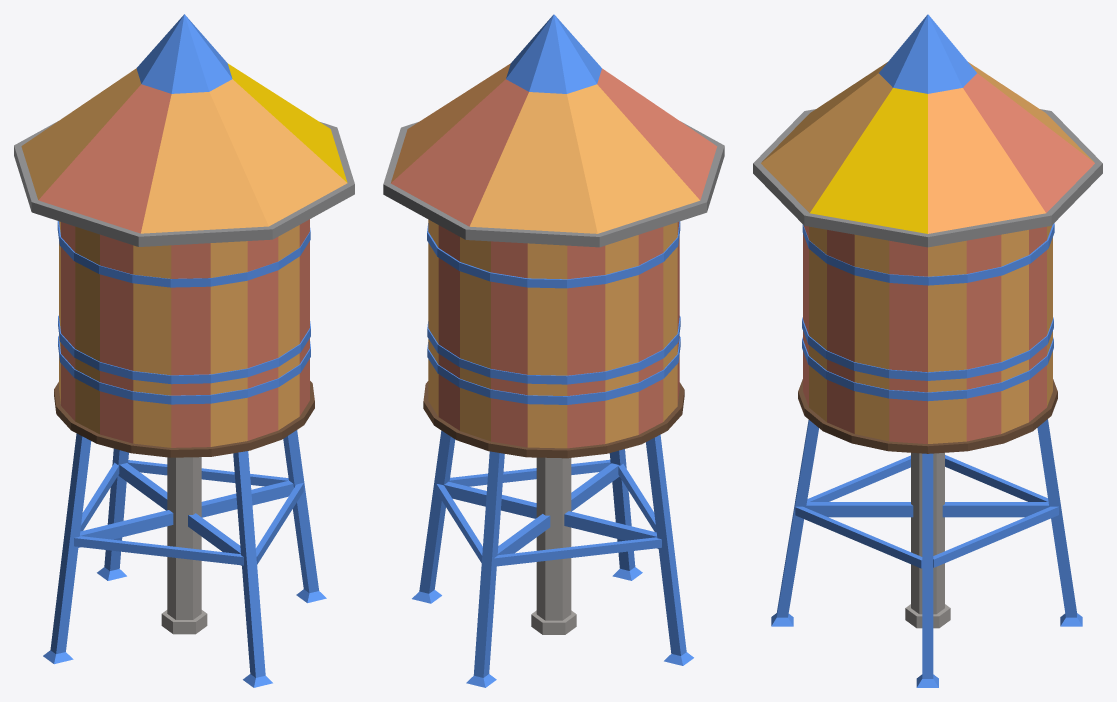
File: daxingjianzhu_shuita.fbx
The picture shows the model from 3 angles, left to right: view 1: azimuth 30°, elevation 25°; view 2: azimuth 150°, elevation 25°; view 3: azimuth 270°, elevation 25°; orthographic projection.
Parts seen in each view (by area): view 1: daxingjianzhu_shuita; view 2: daxingjianzhu_shuita; view 3: daxingjianzhu_shuita.
Part boxes in pixels (<box>): daxingjianzhu_shuita: <box>14,14,354,687</box>; daxingjianzhu_shuita: <box>383,14,724,687</box>; daxingjianzhu_shuita: <box>753,14,1102,687</box>.
Bounding box in the file's own units: 1261 × 2418 × 1261.
